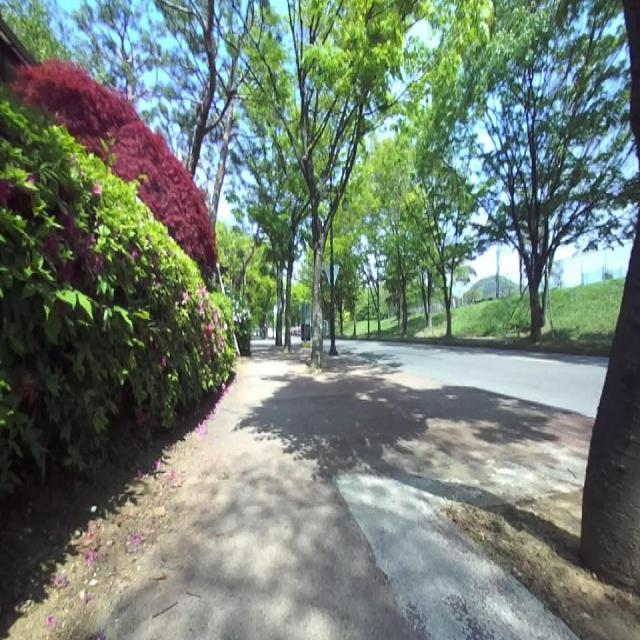sidewalk: (82, 344, 594, 640)
